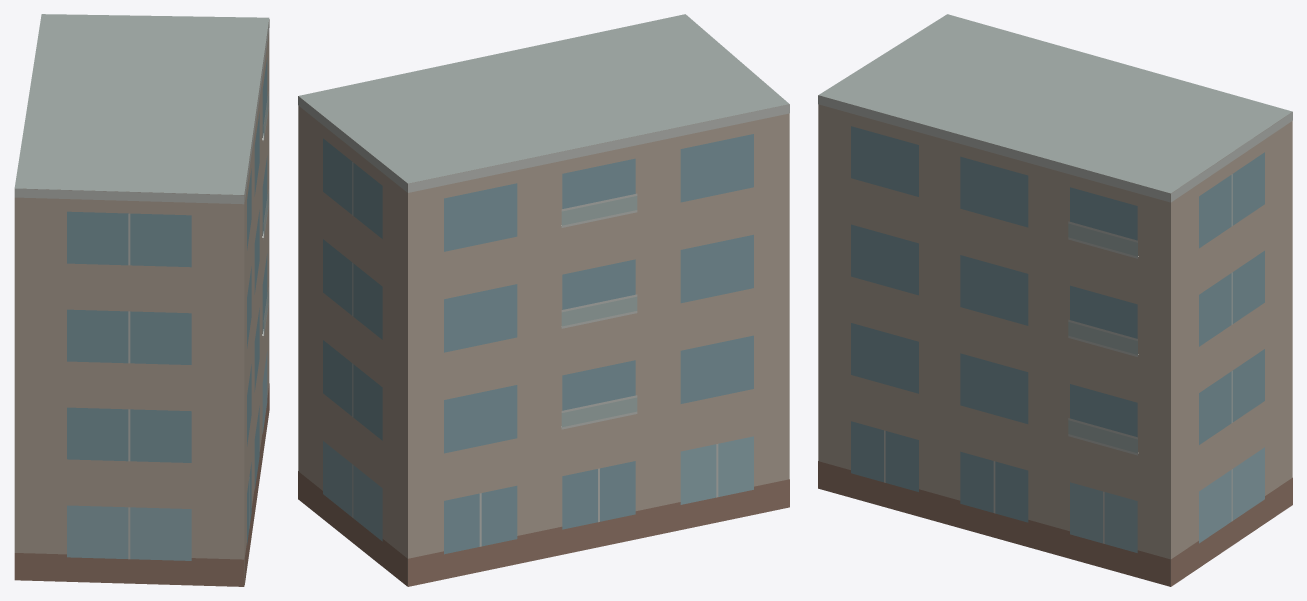
File: survey-upis-32882440.glb
3 views of the same model, side by side, from view 1: azimuth 30°, elevation 25°; view 2: azimuth 150°, elevation 25°; view 3: azimuth 270°, elevation 25° (orthographic). The views are drawn at different scales.
Parts seen in each view (by area): view 1: survey-upis-32882440.tmp; view 2: survey-upis-32882440.tmp; view 3: survey-upis-32882440.tmp.
Part boxes in pixels (x1=…): survey-upis-32882440.tmp: x1=14, y1=14, x2=269, y2=586; survey-upis-32882440.tmp: x1=298, y1=14, x2=789, y2=586; survey-upis-32882440.tmp: x1=818, y1=14, x2=1292, y2=586.
Bounding box in the file's own units: 10.28 × 10.5 × 11.49.
